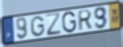9: (93, 6, 109, 30), (15, 17, 29, 41)
G: (61, 10, 77, 34), (29, 15, 46, 37)
R: (78, 9, 93, 32)
Z: (45, 12, 63, 38)
